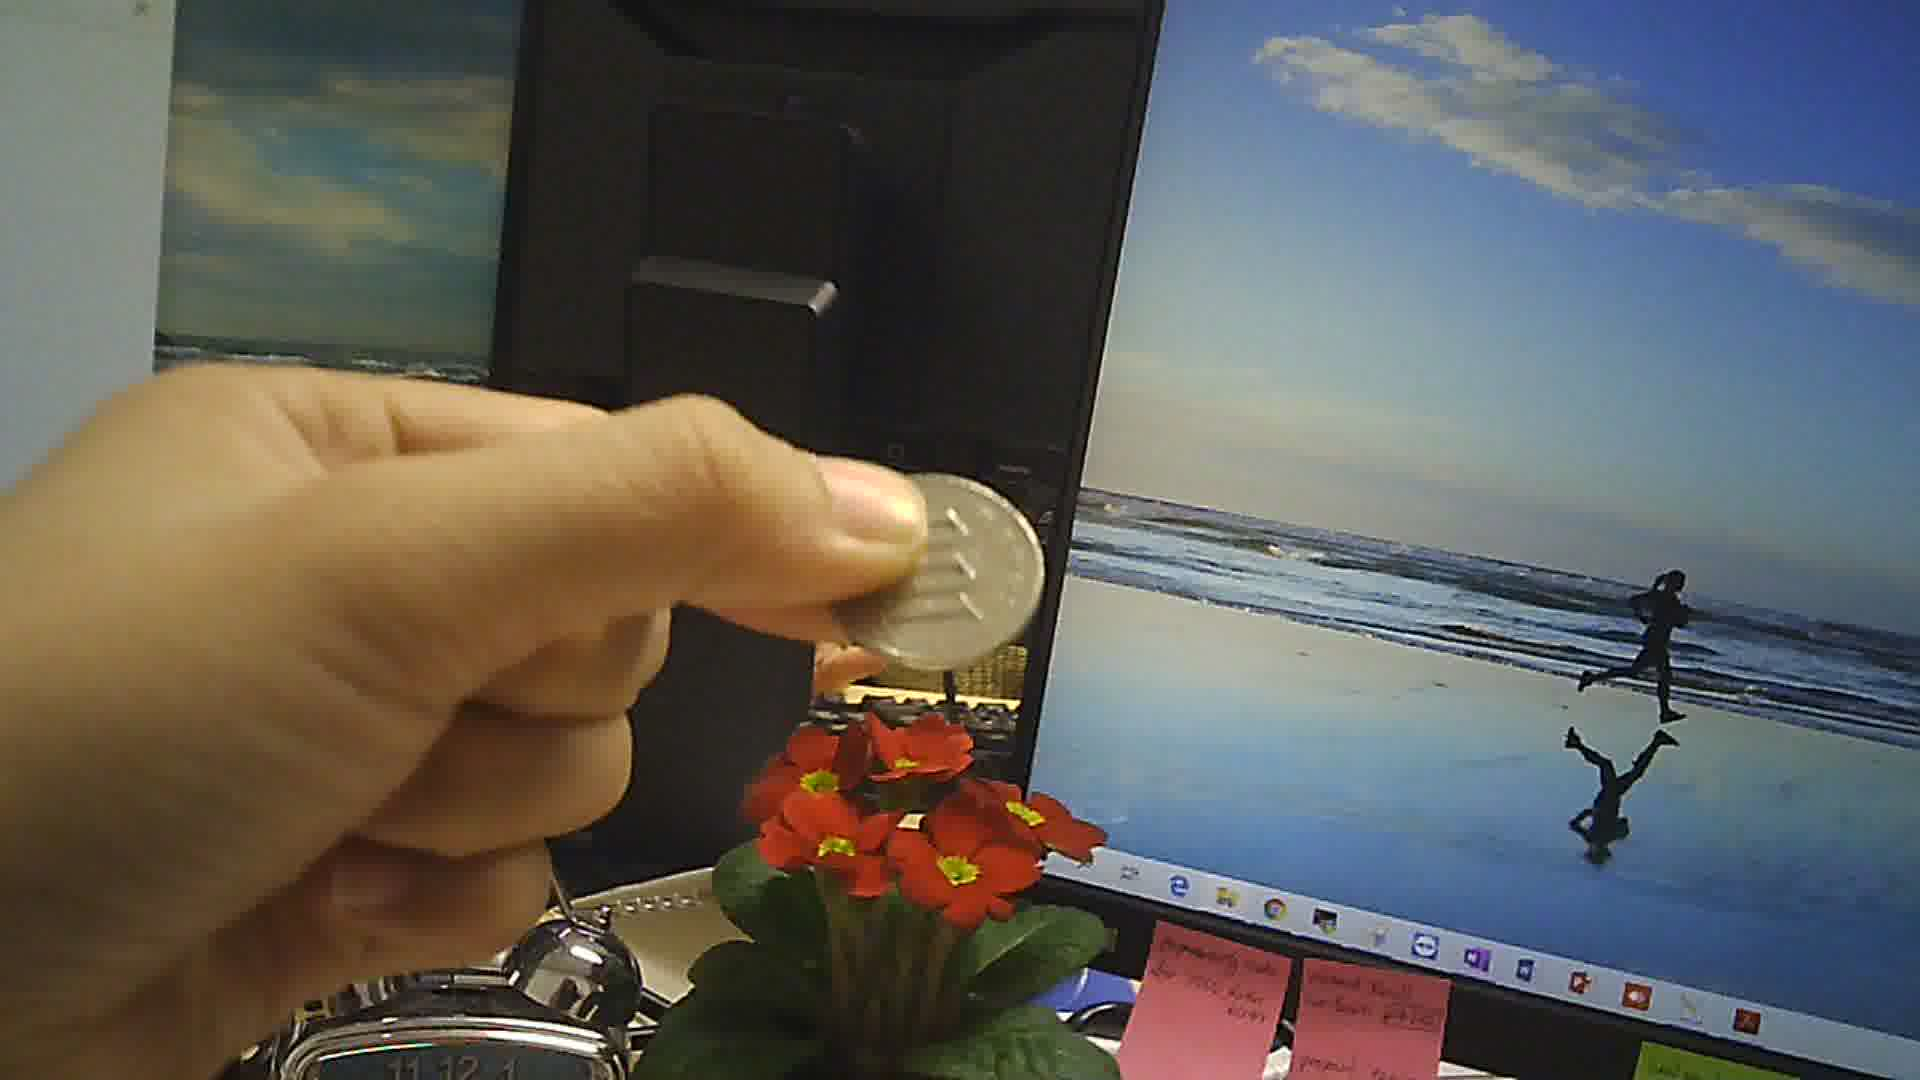100 Yen: (825, 459, 1046, 669)
